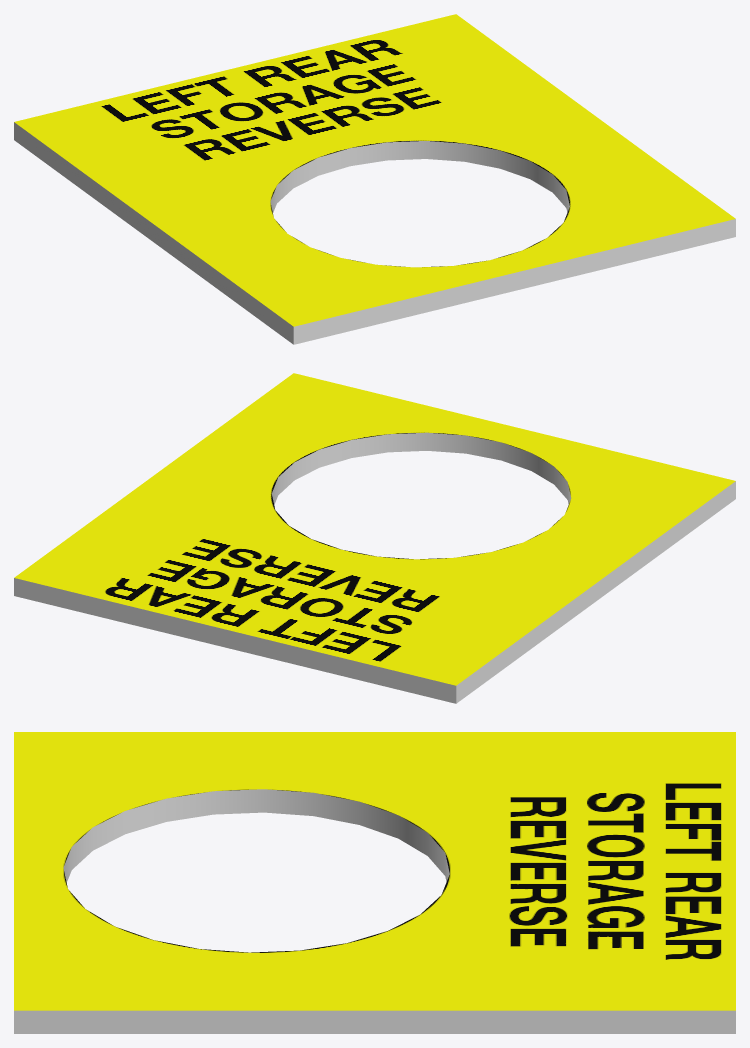
File: leftrearstoragerev.dae
3 views of the same model, one above another, from view 1: azimuth 30°, elevation 25°; view 2: azimuth 150°, elevation 25°; view 3: azimuth 270°, elevation 25° (orthographic). The views are drawn at different scales.
Parts seen in each view (by area): view 1: SketchUp (×3); view 2: SketchUp (×3); view 3: SketchUp (×3).
Boxes of the visible parts, x1=… form: SketchUp (×3): x1=14, y1=14, x2=735, y2=344; SketchUp (×3): x1=14, y1=373, x2=735, y2=703; SketchUp (×3): x1=14, y1=732, x2=735, y2=1033.
Size of the model in its own units: 2.01 by 2.2 by 0.0787.
Materials: 2 (1 with a texture image).
